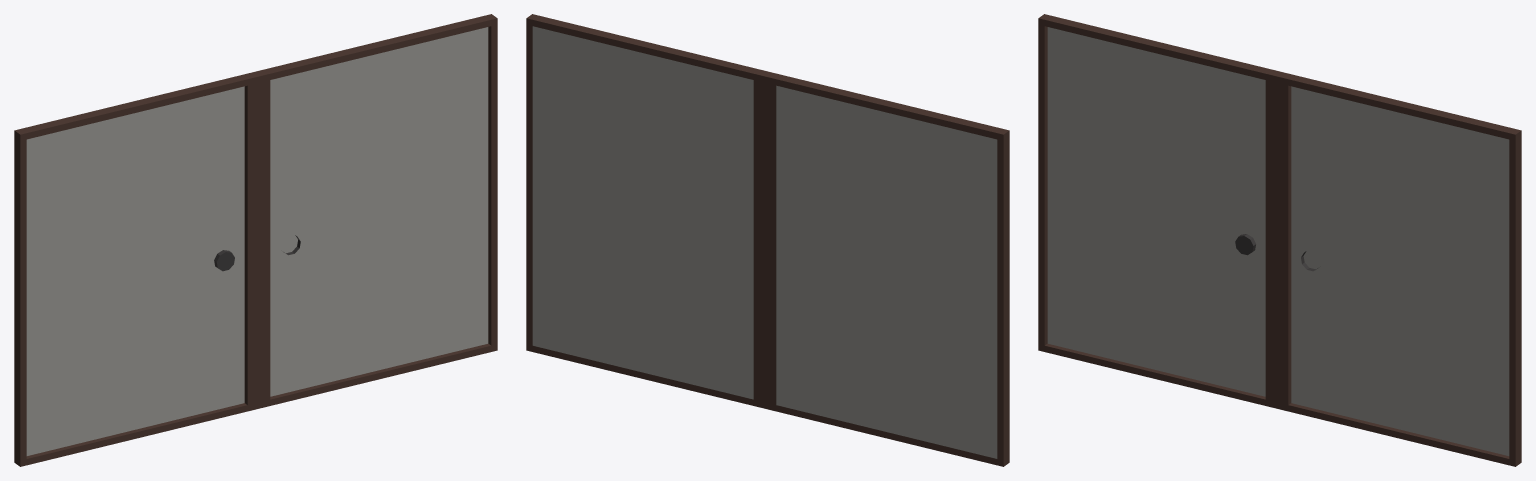
File: sliding_doors_test.glb
3 views of the same model, side by side, from view 1: azimuth 30°, elevation 25°; view 2: azimuth 150°, elevation 25°; view 3: azimuth 330°, elevation 25° (orthographic).
Parts seen in each view (by area): view 1: SlidingDoors; view 2: SlidingDoors; view 3: SlidingDoors.
Boxes of the visible parts, box(x1,y1,x2,y2) form: SlidingDoors: box(14, 14, 497, 466); SlidingDoors: box(526, 14, 1009, 466); SlidingDoors: box(1038, 14, 1521, 466).
Bounding box in the file's own units: 5.22 × 3.47 × 0.111.
